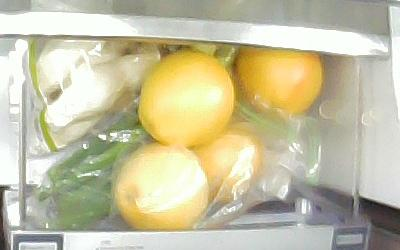grapefruit: (139, 52, 234, 147)
grapefruit_vinyl: (116, 145, 208, 230), (186, 118, 268, 202), (234, 48, 324, 117)
